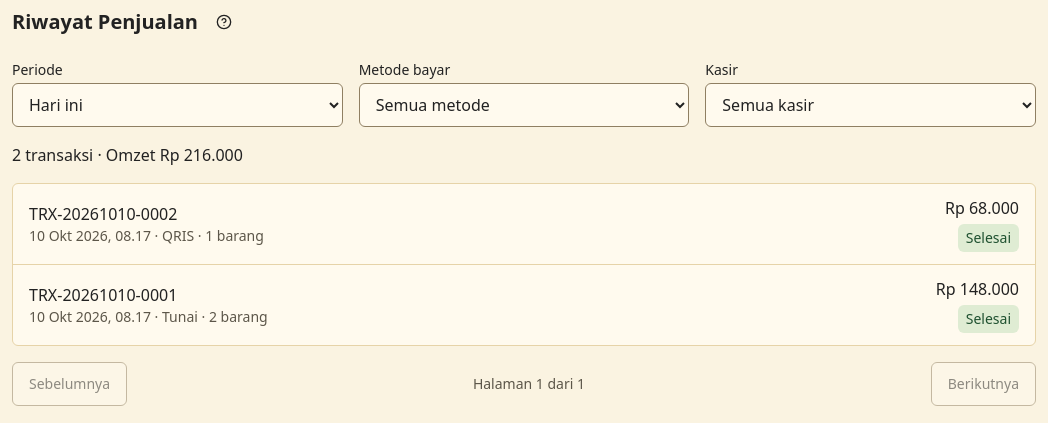
SaleHistoryPage › periode kemarin tanpa transaksi menampilkan pesan kosong
Check: the text "2 transaksi · Omzet Rp 216.000" is shown, box [12,144,243,166]
Select "Kemarin" in the dropdown labelled "Periode". click: (177, 105)
box: [12,83,343,127]
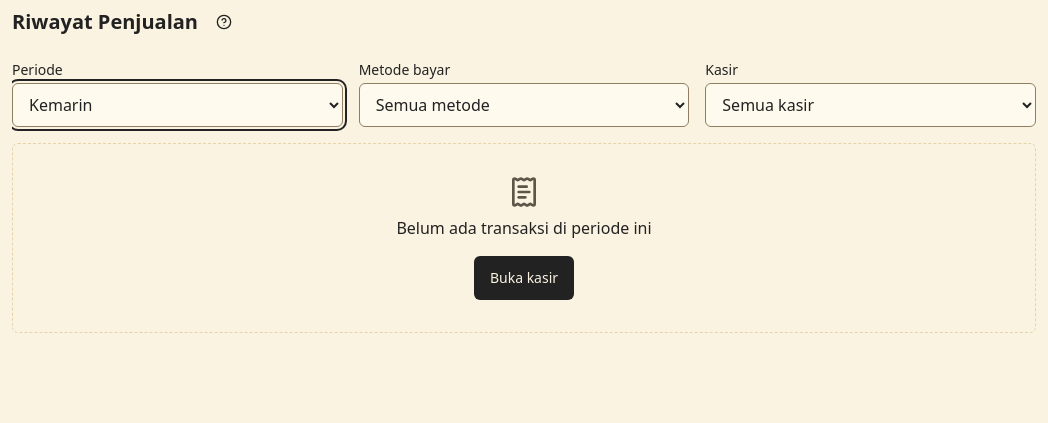
Check: the text "Belum ada transaksi di periode ini" is shown, box [396,216,652,240]
